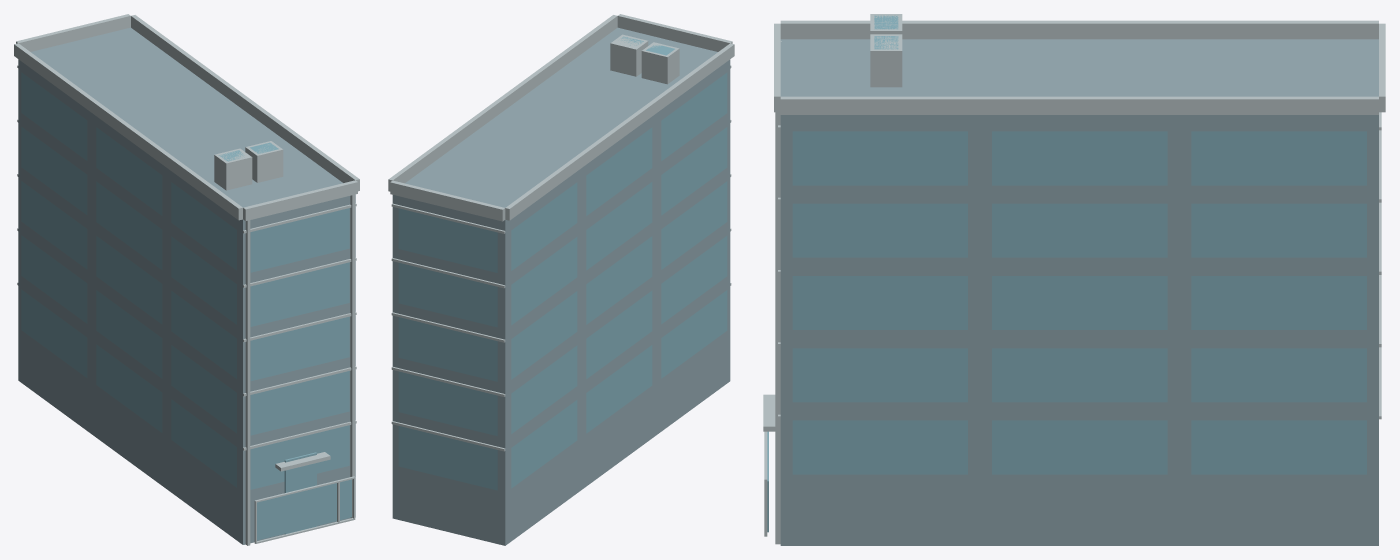
The model's file is commercial_1x3_b.glb.
3 views of the same model, side by side, from view 1: azimuth 30°, elevation 25°; view 2: azimuth 150°, elevation 25°; view 3: azimuth 270°, elevation 25° (orthographic). The views are drawn at different scales.
Visible parts, largest first — view 1: commercial_1x3_b_0; view 2: commercial_1x3_b_0; view 3: commercial_1x3_b_0.
Boxes of the visible parts, bbox=[...] form: commercial_1x3_b_0: bbox=[14, 14, 359, 545]; commercial_1x3_b_0: bbox=[388, 14, 734, 545]; commercial_1x3_b_0: bbox=[763, 14, 1385, 545].
Size of the model in its own units: 7 by 19.5 by 23.4.
